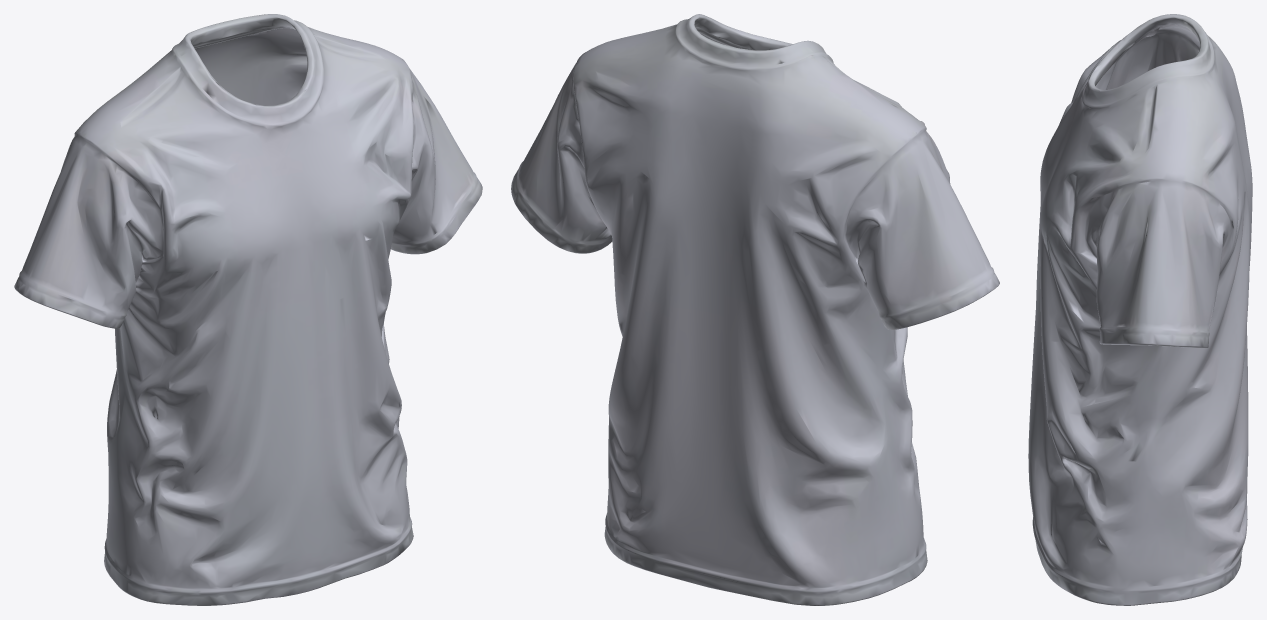
File: tshirt-short.glb
3 views of the same model, side by side, from view 1: azimuth 30°, elevation 25°; view 2: azimuth 150°, elevation 25°; view 3: azimuth 270°, elevation 25° (orthographic). The views are drawn at different scales.
Visible parts, largest first — view 1: material; view 2: material; view 3: material.
Part boxes in pixels (x1,y1,x2,y2): material: (14, 14, 482, 605); material: (511, 14, 999, 605); material: (1028, 14, 1252, 605).
Bounding box in the file's own units: 0.9797 × 1.04 × 0.422.
1 material, 1 textured.
